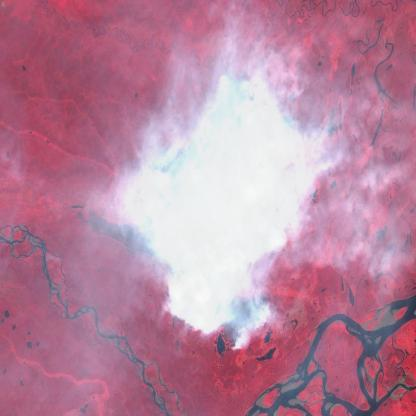fire: (98, 65, 324, 348)
